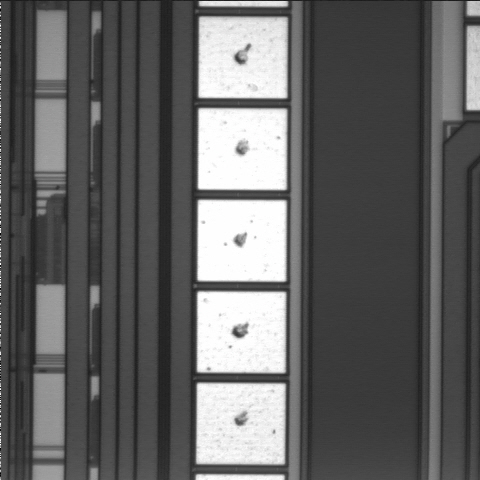pad: (197, 200, 287, 282), (198, 108, 287, 190), (197, 291, 286, 373), (196, 383, 285, 464), (199, 17, 287, 98)
